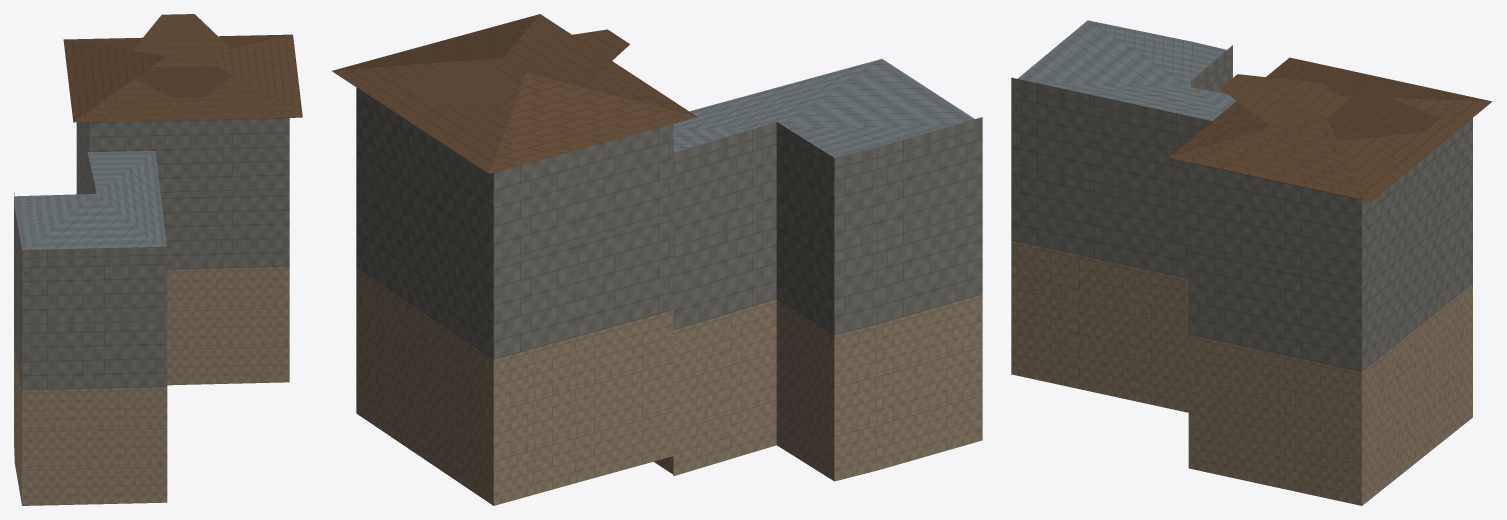
Rendered from bld_c31_-37_463.gltf.
3 renders of one model, left to right at view 1: azimuth 30°, elevation 25°; view 2: azimuth 150°, elevation 25°; view 3: azimuth 270°, elevation 25°, orthographic. The views are drawn at different scales.
Parts seen in each view (by area): view 1: bld_c31_-37_463; view 2: bld_c31_-37_463; view 3: bld_c31_-37_463.
Part boxes in pixels (x1=…): bld_c31_-37_463: x1=14, y1=14, x2=302, y2=505; bld_c31_-37_463: x1=332, y1=14, x2=982, y2=505; bld_c31_-37_463: x1=1011, y1=20, x2=1492, y2=505.
Size of the model in its own units: 18.13 by 13.6 by 16.58.
5 materials, 5 textured.
